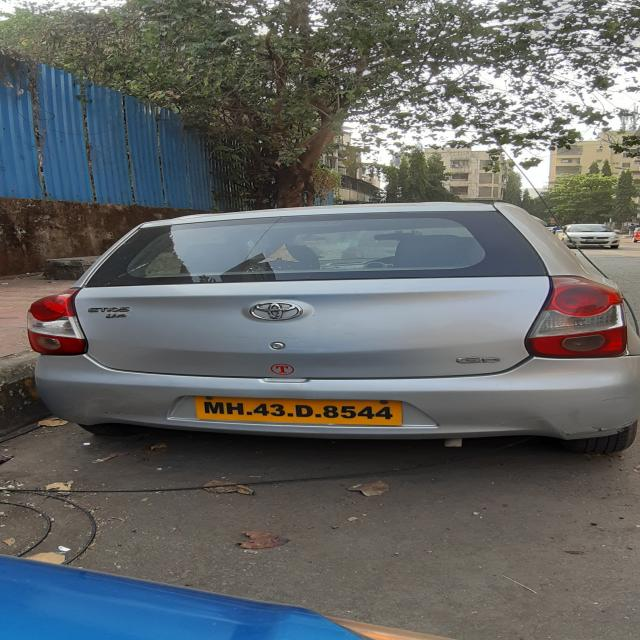Number-Plate: (202, 395, 421, 430)
